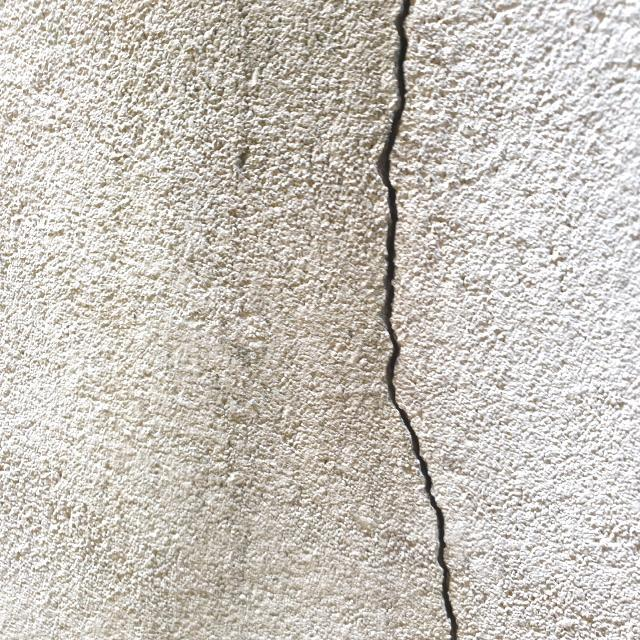SurfaceCrack: (329, 0, 490, 639)
